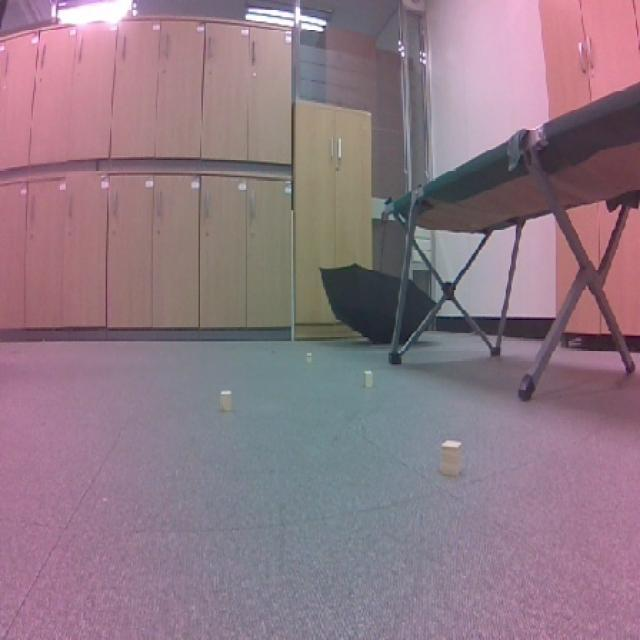obstacle: (432, 434, 478, 487)
